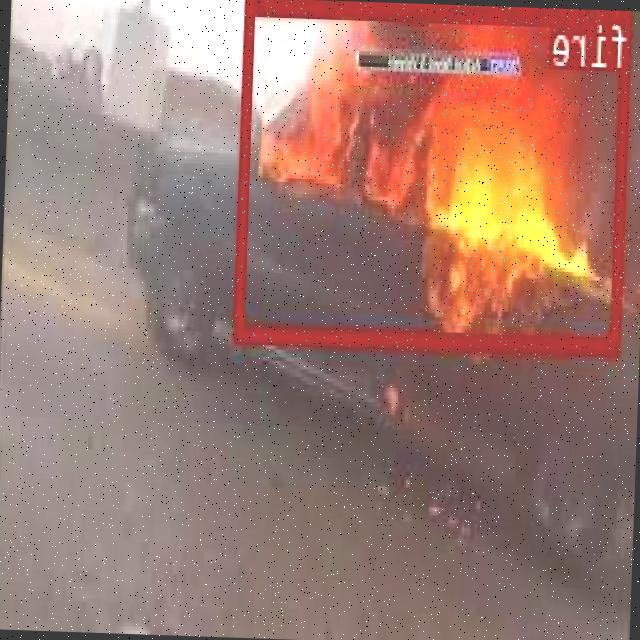fire: (235, 0, 633, 353)
